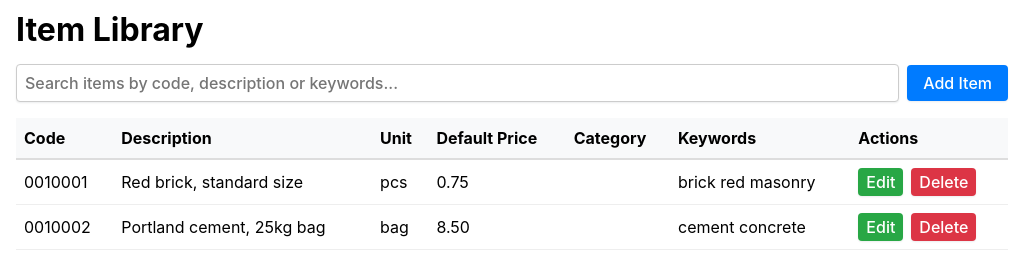
Test: ItemLibraryPage › filters items by search term across code, description and keywords
Expected: the text "Red brick, standard size" is shown, [113, 159, 372, 204]
Type "cement" into the field with placeholder "Search items by code, description or keywords...". click: (458, 83)
box: [16, 64, 899, 102]
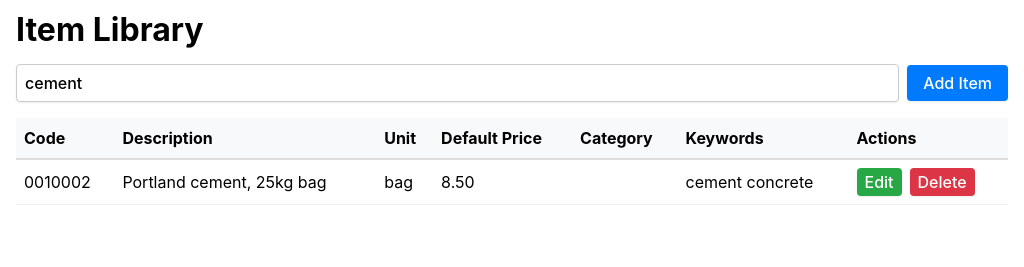
Expected: the text "Portland cement, 25kg bag" is shown, [114, 159, 376, 204]
Expected: the text "Red brick, standard size" is gone
